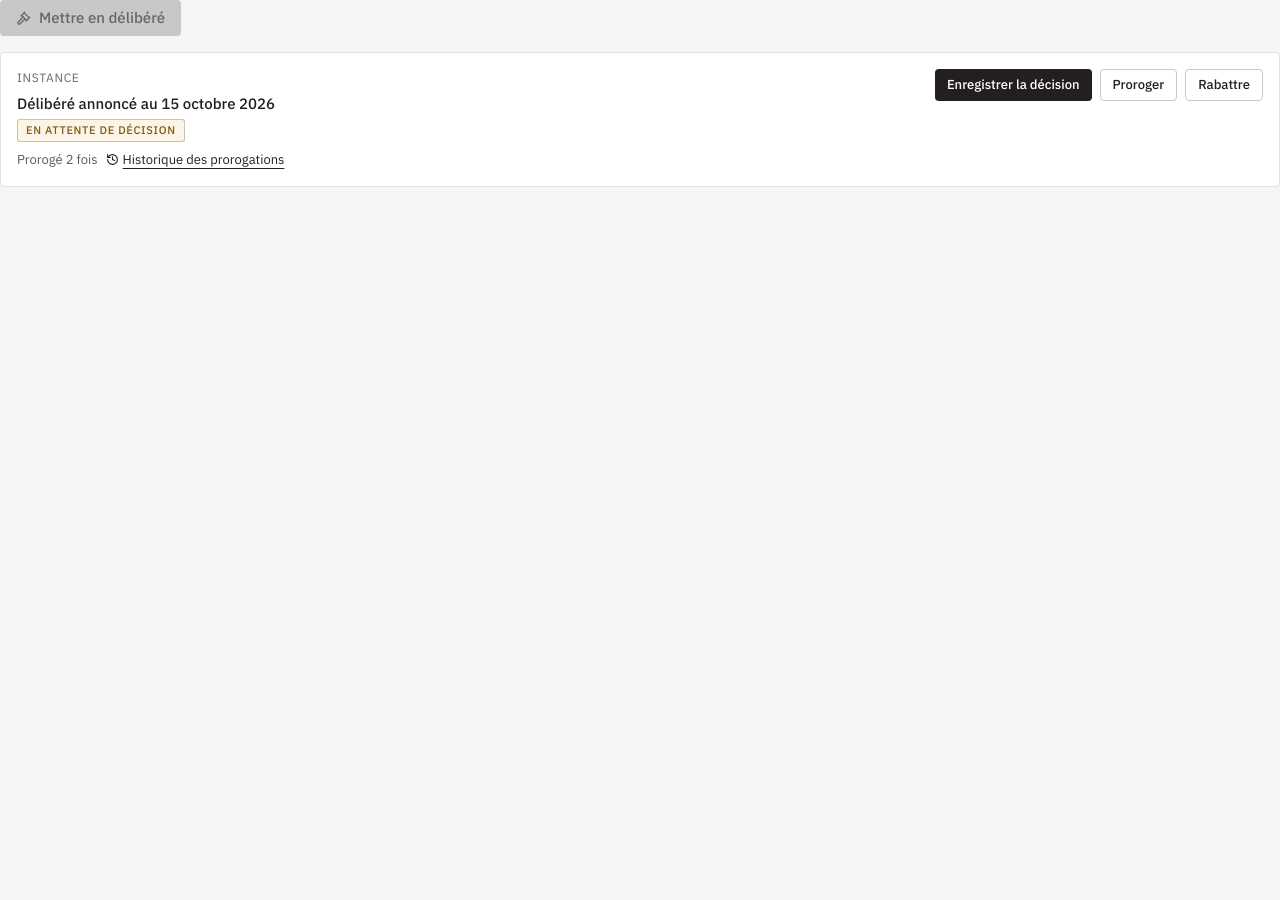
Test: OngletDeliberes - historique des prorogations › affiche l'erreur de l'historique
Expected: the text "Prorogé 2 fois" is shown, [17,151,98,168]
Click the button "Historique des prorogations" at (195, 160), box [106,150,284,170]
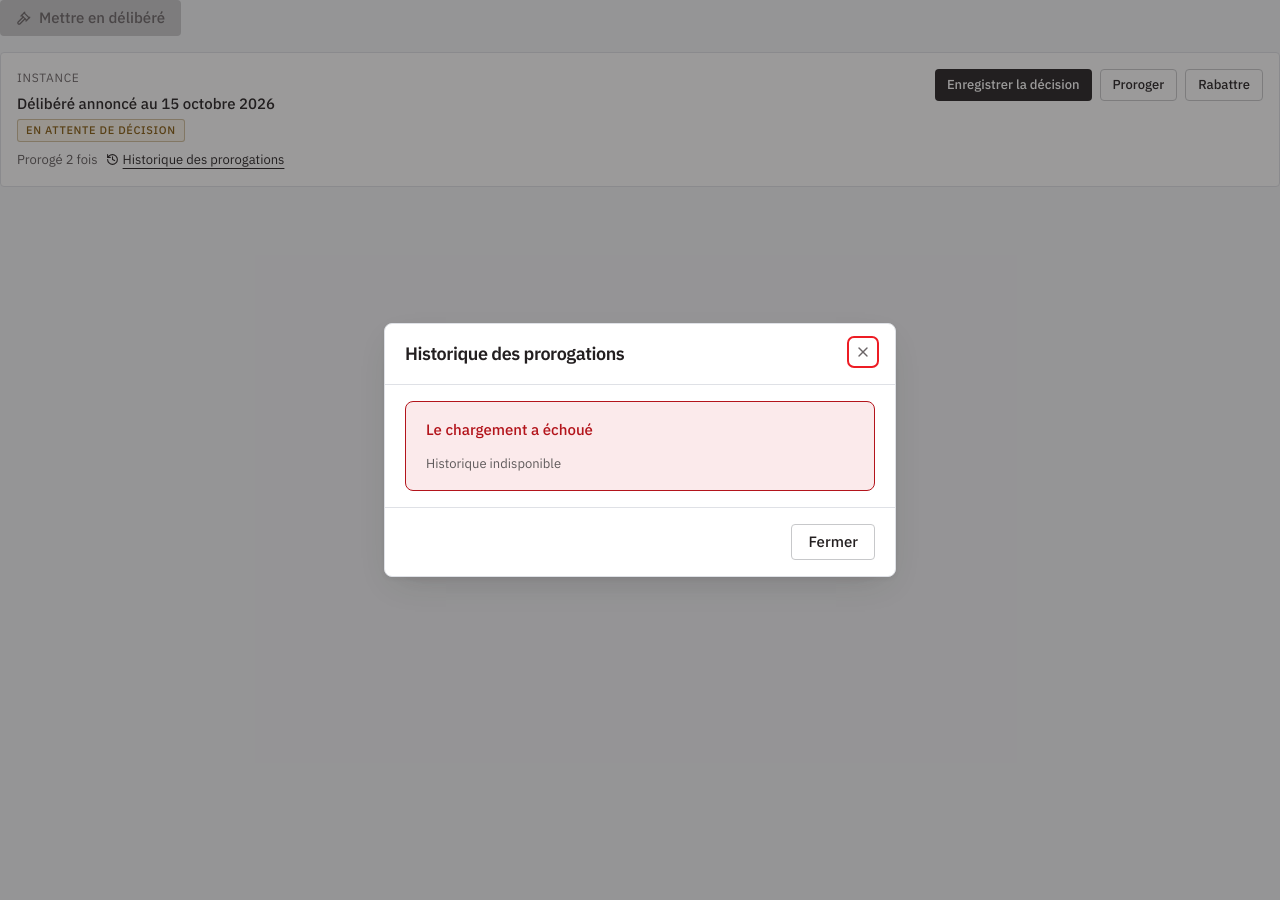
Now the text "Historique indisponible" is shown, box [426,454,561,474]
